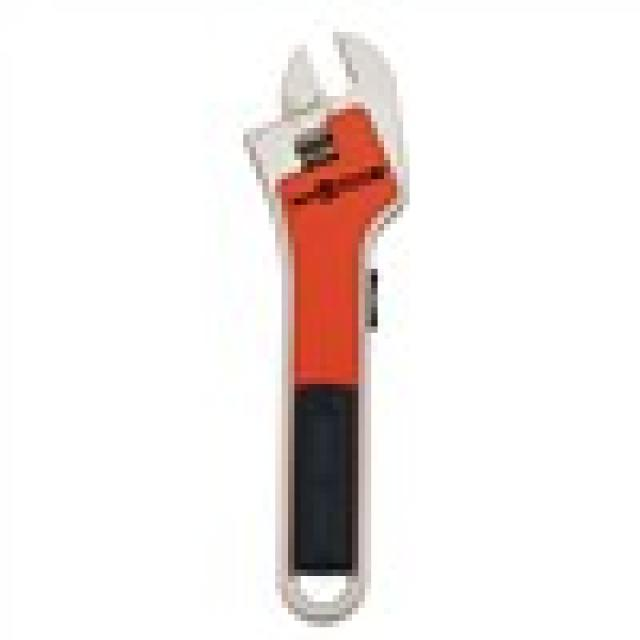hammer: (205, 36, 445, 618)
